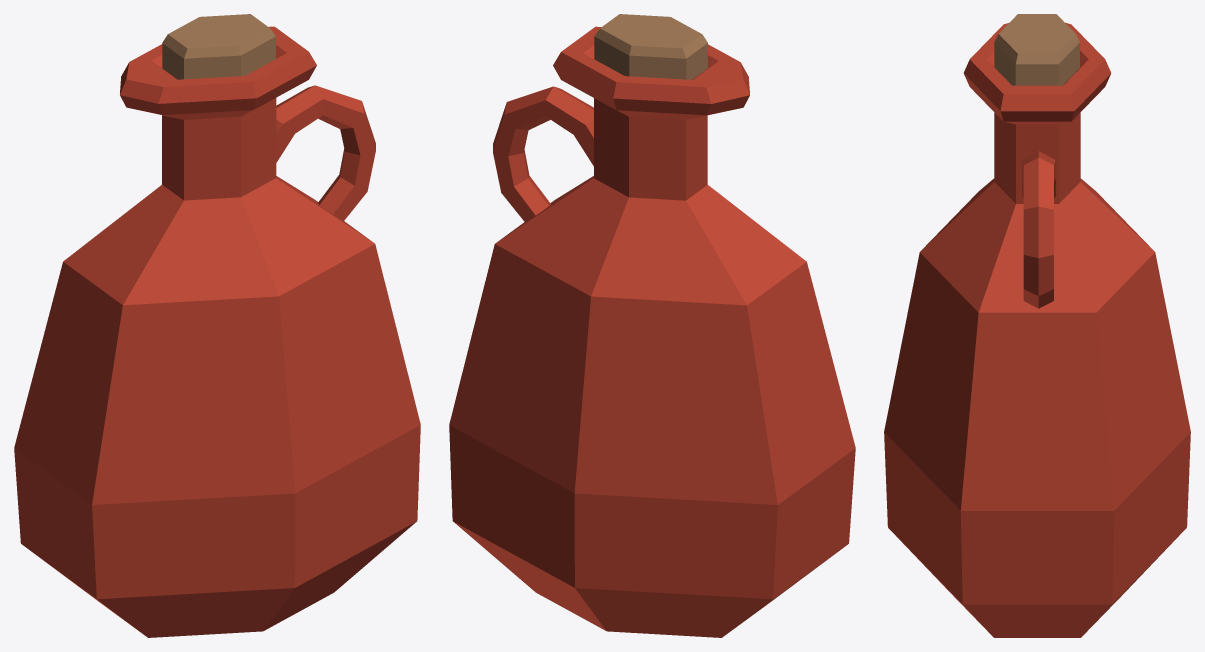
The model's file is potion_12.glb.
3 views of the same model, side by side, from view 1: azimuth 30°, elevation 25°; view 2: azimuth 150°, elevation 25°; view 3: azimuth 270°, elevation 25° (orthographic).
Visible parts, largest first — view 1: potion_12; view 2: potion_12; view 3: potion_12.
Boxes of the visible parts, x1,y1,x2,y2 form: potion_12: (14,14,420,637); potion_12: (449,14,855,637); potion_12: (884,14,1190,637).
Size of the model in its own units: 0.2365 by 0.3904 by 0.1941.
Materials: 2 (2 with a texture image).
